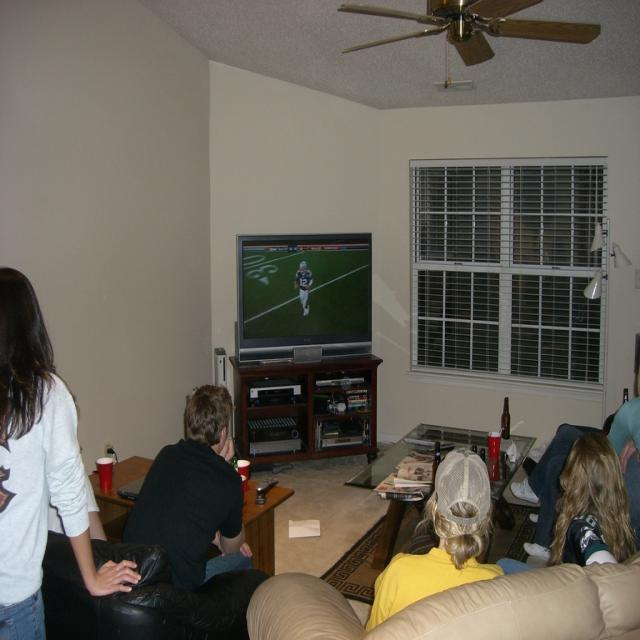fan_off: (334, 0, 606, 66)
